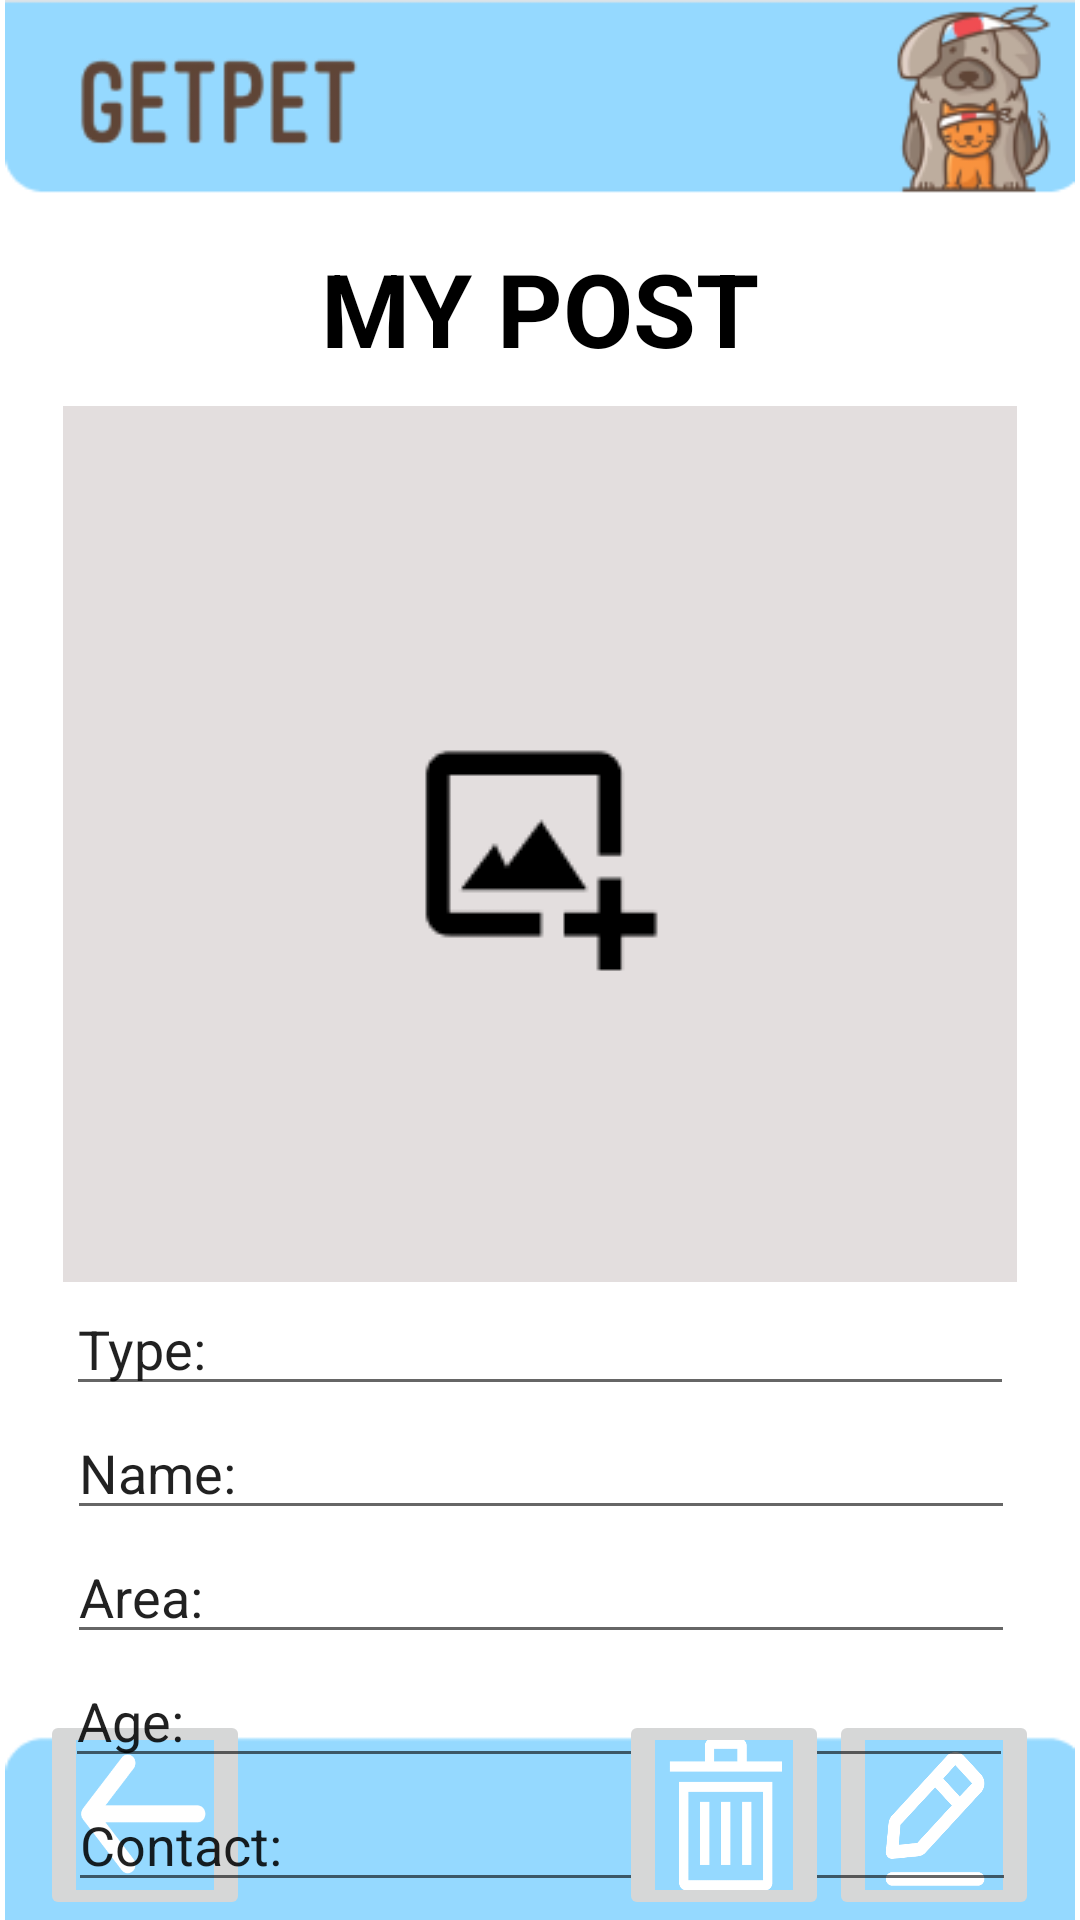

Named icons in this screenshot (1080 x 1920) and their centers, [x,y]:
edit: [934,1815]
trush: [724,1815]
